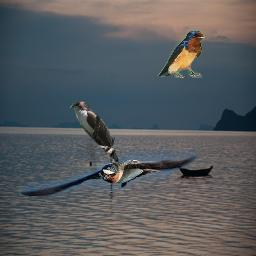Cuckoo: (70, 101, 125, 173)
Swallow: (19, 150, 198, 196), (157, 30, 205, 78)
